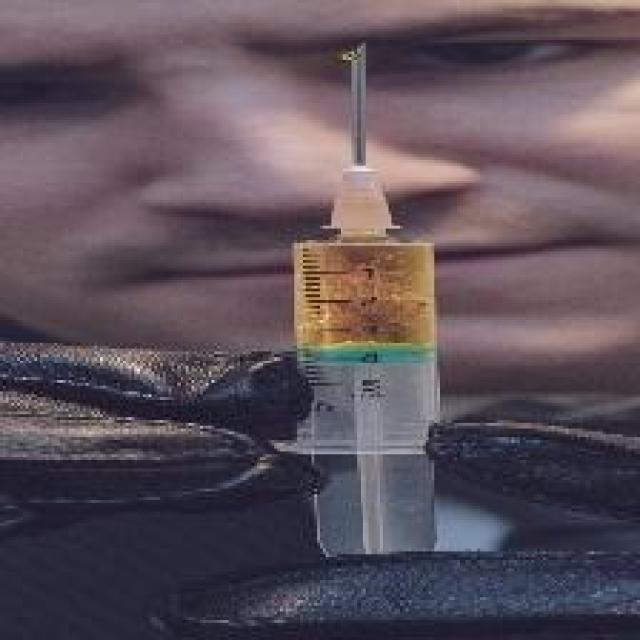syringe: (294, 21, 463, 570)
